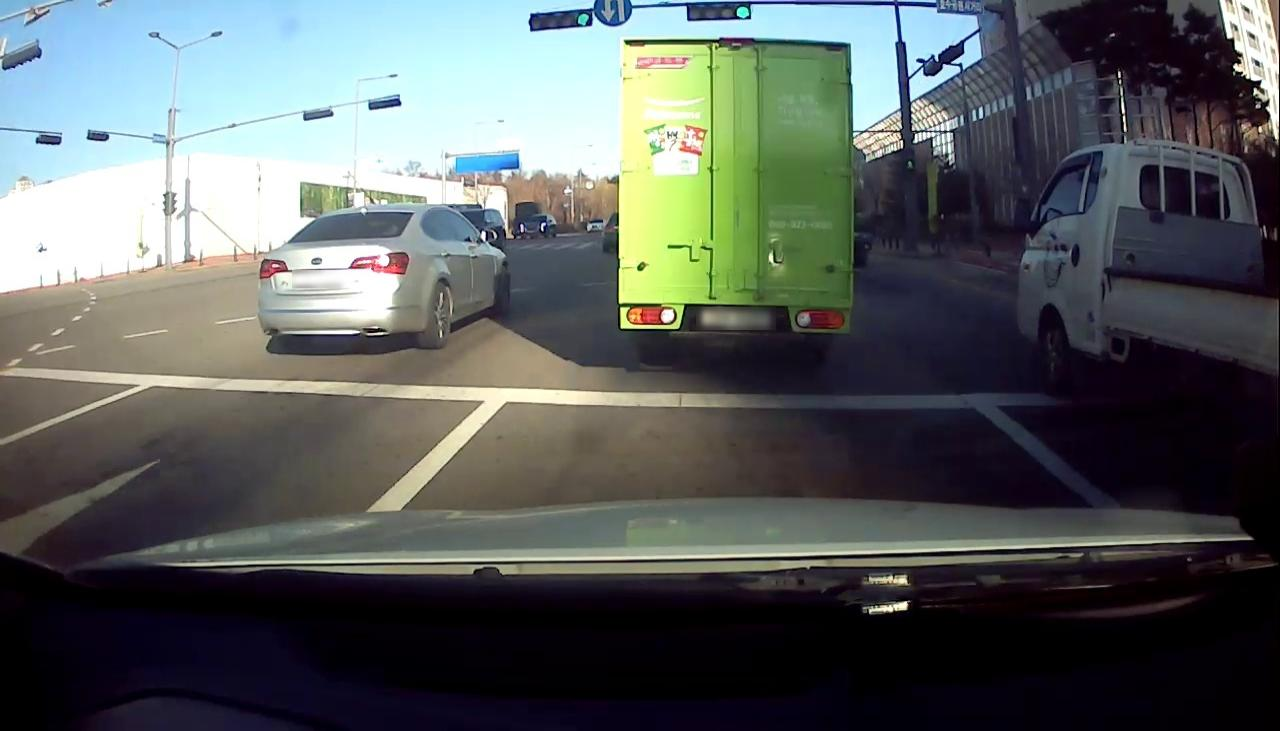Green Light: (735, 0, 752, 21), (574, 10, 592, 26)
